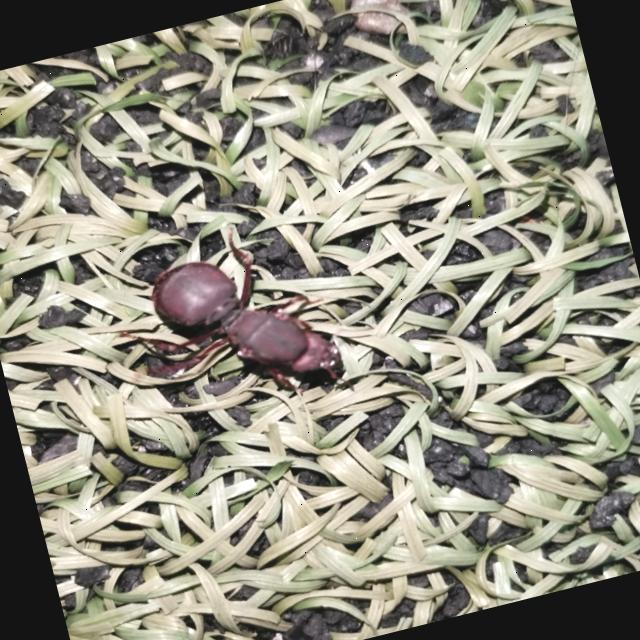Alive-Female-Dealate: (107, 205, 364, 436)
